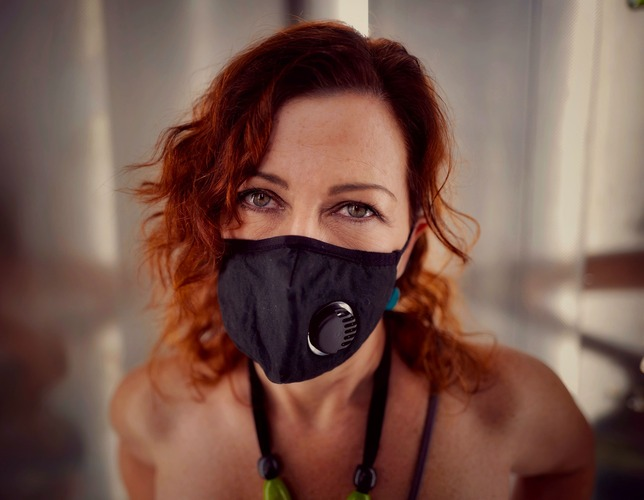with_mask: (222, 132, 400, 378)
